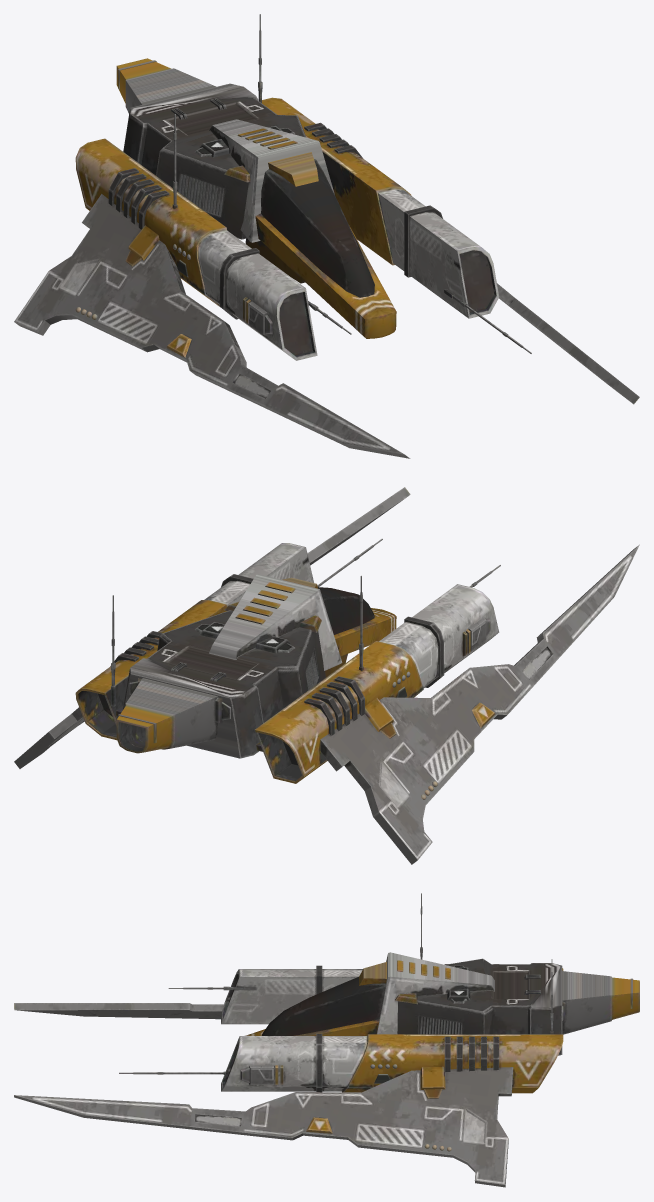
The model's file is n_striker.glb.
3 views of the same model, one above another, from view 1: azimuth 30°, elevation 25°; view 2: azimuth 150°, elevation 25°; view 3: azimuth 270°, elevation 25° (orthographic). The views are drawn at different scales.
Visible parts, largest first — view 1: Striker; view 2: Striker; view 3: Striker.
Boxes of the visible parts, x1,y1,x2,y2 form: Striker: (14,14,639,458); Striker: (14,487,639,864); Striker: (14,893,639,1187).
Bounding box in the file's own units: 5.03 × 2.68 × 8.43.
1 material, 1 textured.
